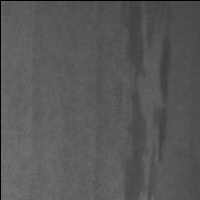inclusion: (118, 1, 174, 200)
